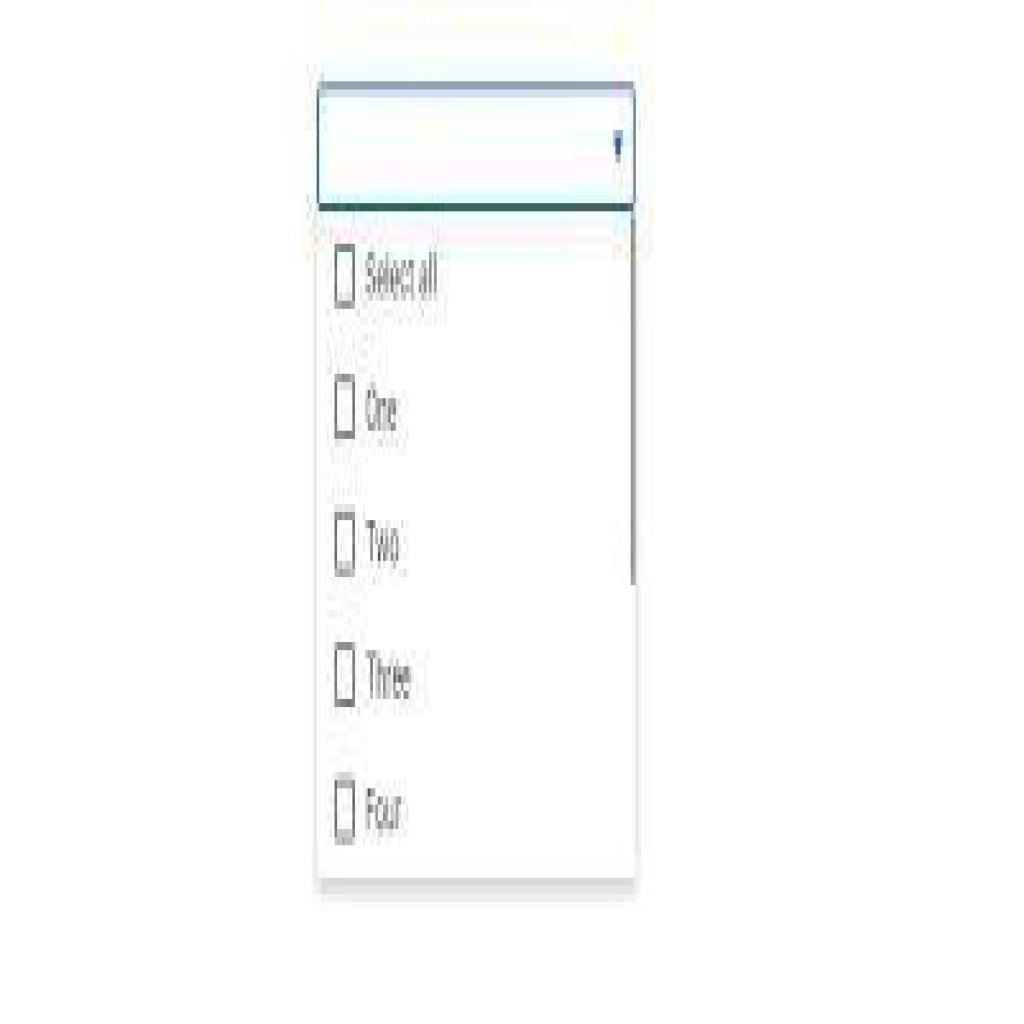checkbox: (334, 772, 355, 845), (334, 244, 355, 309), (334, 374, 355, 439), (334, 512, 355, 577), (334, 642, 355, 707)
dropdown: (316, 90, 636, 212)
label: (365, 244, 439, 309), (365, 634, 411, 707), (362, 780, 404, 837), (365, 512, 401, 577), (366, 382, 398, 439)
